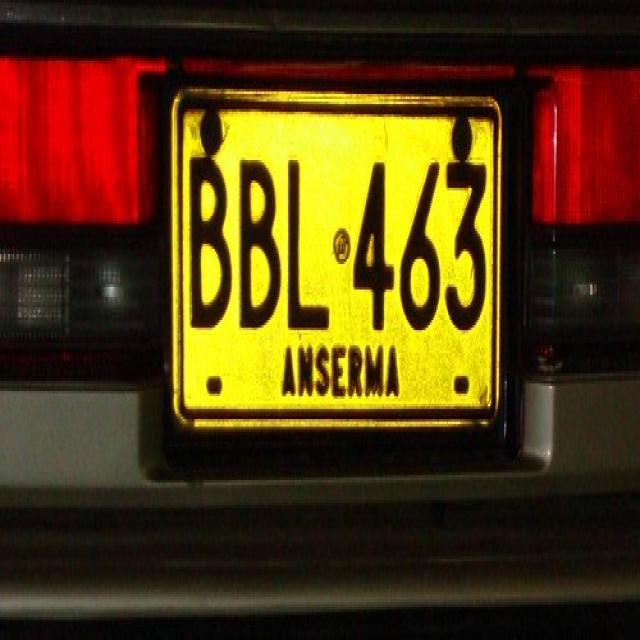placas: (180, 145, 492, 336)
